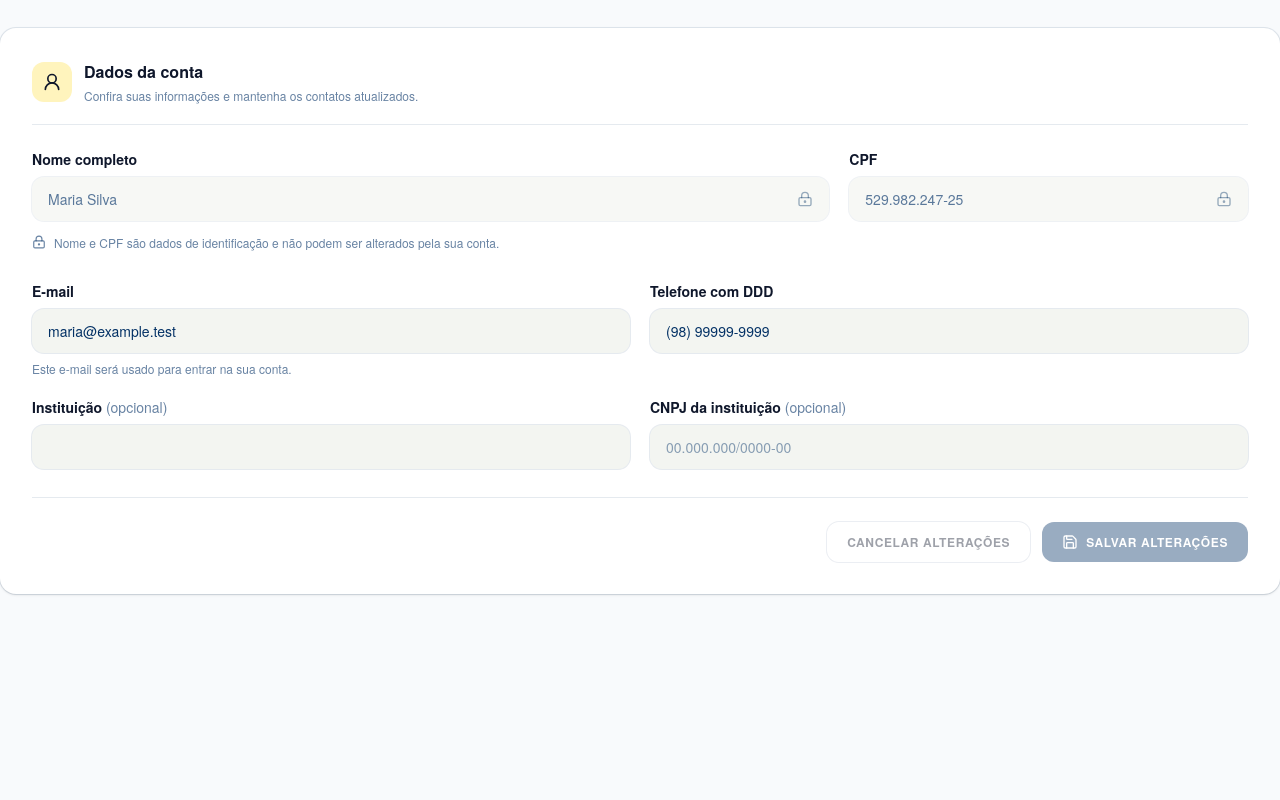
Test: mantém alterações em caso de e-mail duplicado e não apresenta sucesso
Replace the text in the field labelled "E-mail" with "outro@example.test". click: (331, 330)
box: [32,308,630,352]
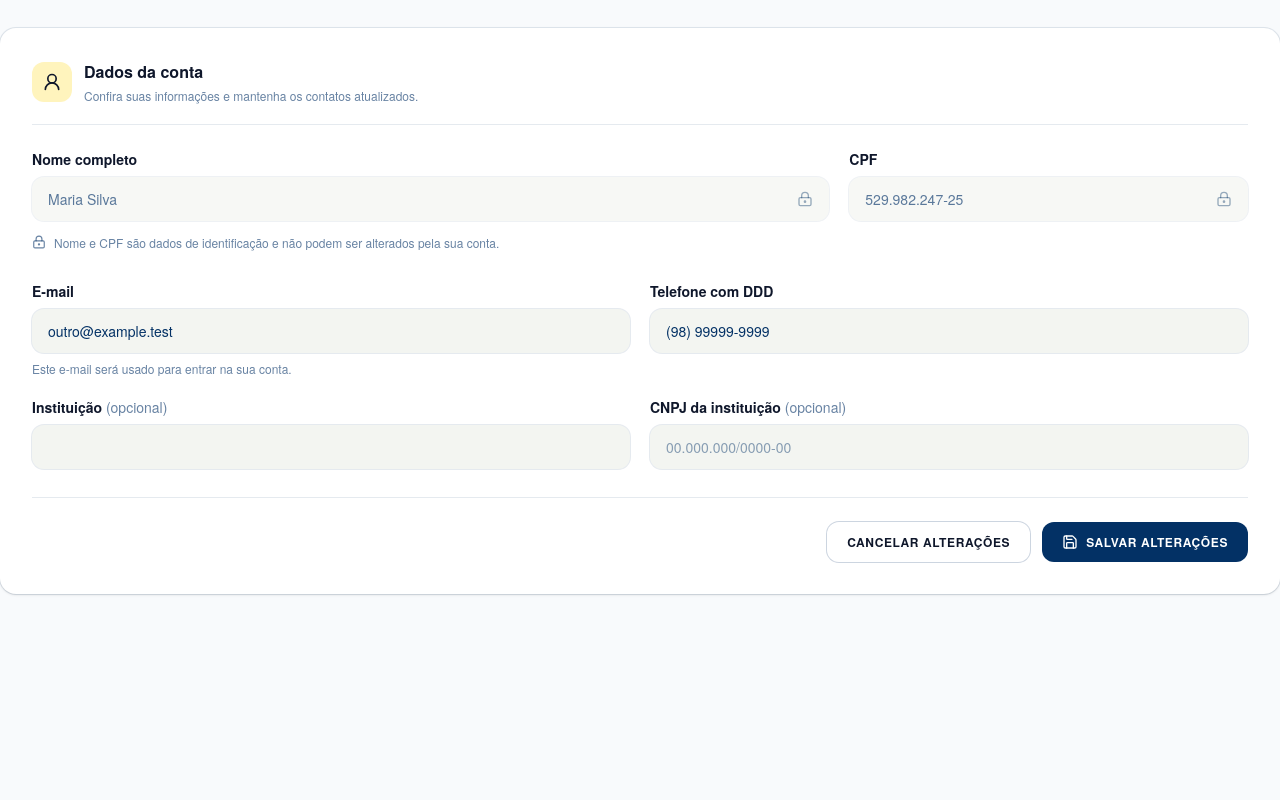
Click the button "Salvar alterações". click: (1145, 542)
box: [1042,522,1248,562]
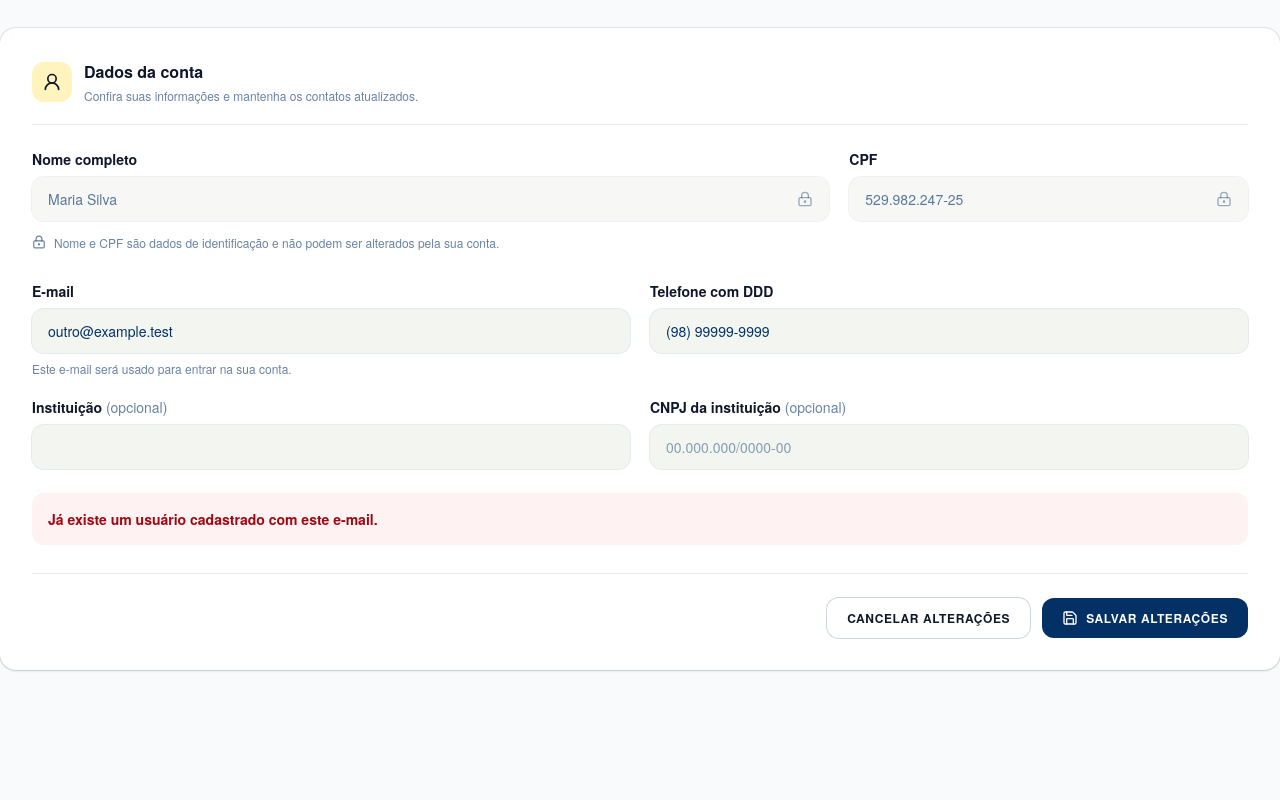
Now the message shows "este e-mail", box [48,508,378,528]
